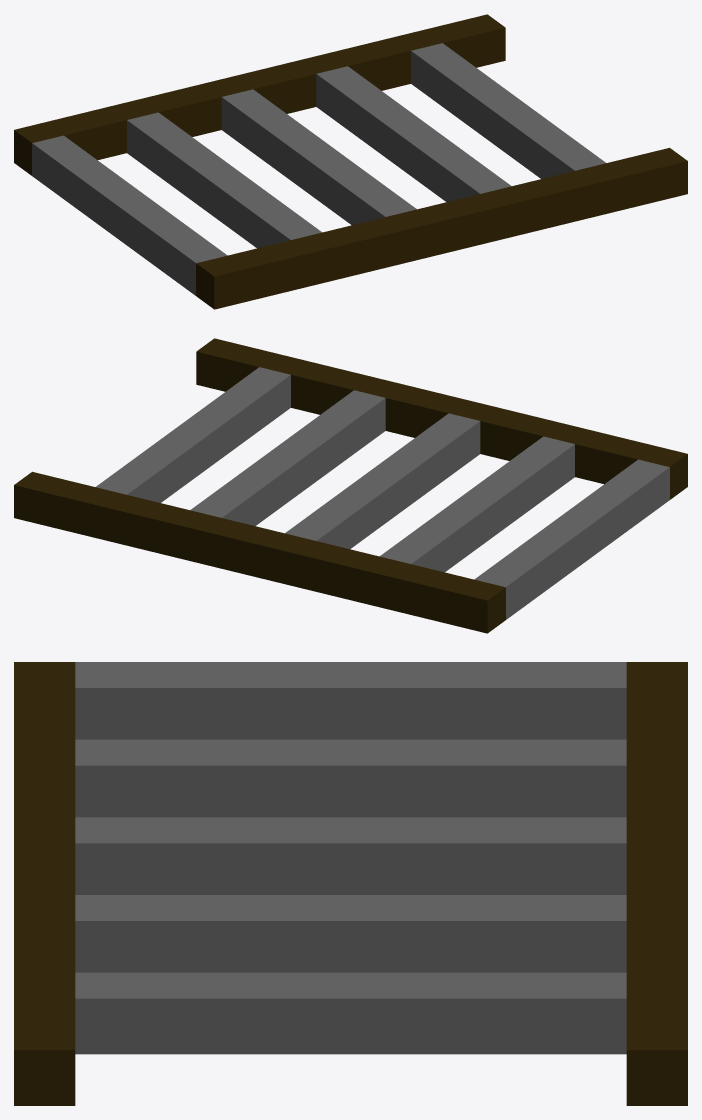
Rendered from track.fbx.
3 renders of one model, top to bottom at view 1: azimuth 30°, elevation 25°; view 2: azimuth 150°, elevation 25°; view 3: azimuth 270°, elevation 25°, orthographic. The views are drawn at different scales.
Parts seen in each view (by area): view 1: Matrix; view 2: Matrix; view 3: Matrix.
Boxes of the visible parts, bbox=[...] form: Matrix: bbox=[14, 14, 687, 309]; Matrix: bbox=[14, 338, 687, 633]; Matrix: bbox=[14, 662, 687, 1105].
Size of the model in its own units: 15 by 1 by 11.
Materials: 1 (1 with a texture image).
